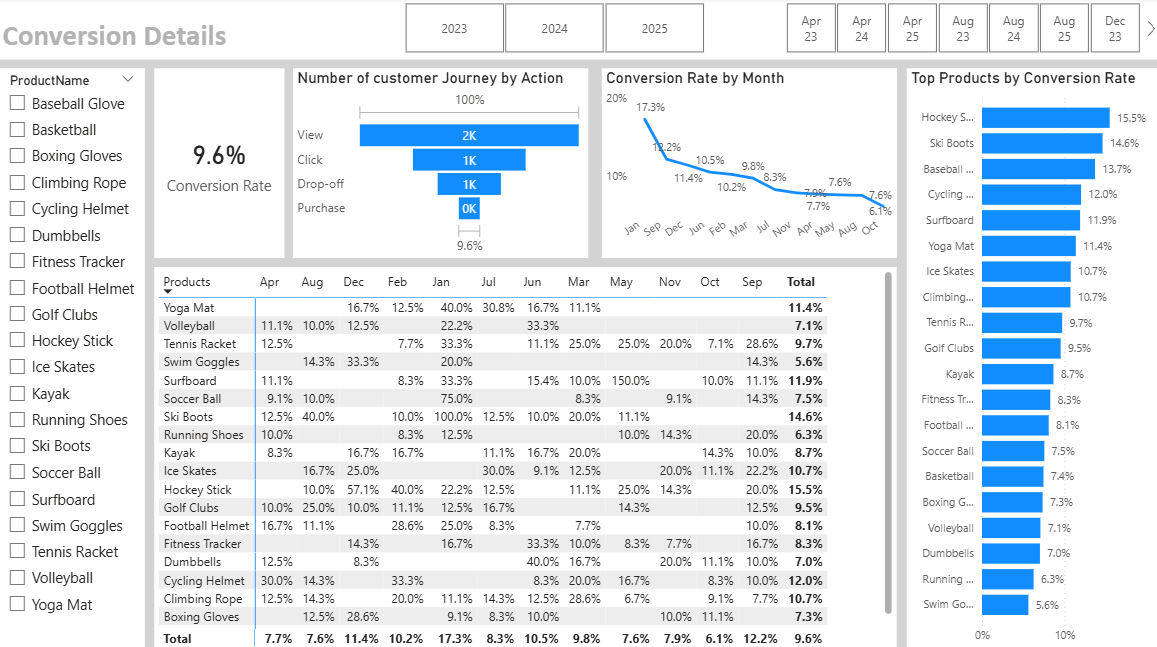

The page's visual inventory and layout, read from the dashboard file:
{"tool":"powerbi","page":{"name":"Conversion Details","canvas":[1280,720],"ordinal":1},"visuals":[{"type":"textbox","box":[0,0,1280.3,68.6],"z":0},{"type":"slicer","fields":{"Values":["dim_products.ProductName"]},"box":[0,78.2,161.9,642.2],"z":1000},{"type":"card","fields":{"Values":["Calculations.Conversion Rate","select"]},"box":[171.9,78.4,143,209],"z":2000},{"type":"lineChart","title":"Conversion Rate by Month","fields":{"Y":["Calculations.Conversion Rate"],"Category":["Calendar.MonthNameShort"]},"box":[664.2,78.4,324.5,209],"z":3000},{"type":"clusteredBarChart","title":"Top Products by Conversion Rate","fields":{"Category":["dim_products.ProductName"],"Y":["Calculations.Conversion Rate"]},"box":[999.7,78.4,280.5,642.2],"z":4000},{"type":"slicer","fields":{"Values":["Calendar.Year"]},"box":[421.7,0,378.5,68.2],"z":5000},{"type":"slicer","fields":{"Values":["Calendar.YearMonthShort"]},"box":[841.9,0,438.4,68.2],"z":6000},{"type":"pivotTable","fields":{"Values":["Calculations.Conversion Rate","select"],"Rows":["dim_products.ProductName"],"Columns":["Calendar.MonthNameShort"]},"box":[171.9,297,816.8,423.6],"z":7000},{"type":"funnel","fields":{"Y":["Calculations.Number of customer Journey"],"Category":["fact_customer_journey.Action"]},"box":[324.5,78.4,324.5,209],"z":8000}]}

Visuals, with their boxes in screenshot pixels (x1, y1, x2, y2), scaled from the page's 1280x720 canvas onto the 1157x647 screenshot:
textbox: x1=0, y1=0, x2=1156, y2=62
slicer - dim_products.ProductName: x1=0, y1=70, x2=146, y2=646
card - Calculations.Conversion Rate x select: x1=155, y1=70, x2=285, y2=258
"Conversion Rate by Month" lineChart: x1=600, y1=70, x2=894, y2=258
"Top Products by Conversion Rate" clusteredBarChart: x1=904, y1=70, x2=1156, y2=646
slicer - Calendar.Year: x1=381, y1=0, x2=723, y2=61
slicer - Calendar.YearMonthShort: x1=761, y1=0, x2=1156, y2=61
pivotTable - Calculations.Conversion Rate x select: x1=155, y1=267, x2=894, y2=646
funnel - Calculations.Number of customer Journey x fact_customer_journey.Action: x1=293, y1=70, x2=587, y2=258
